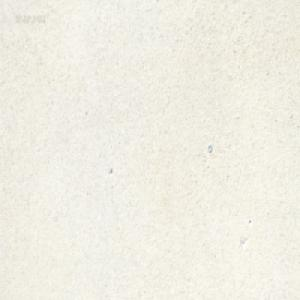Washer: (207, 143, 212, 153)
